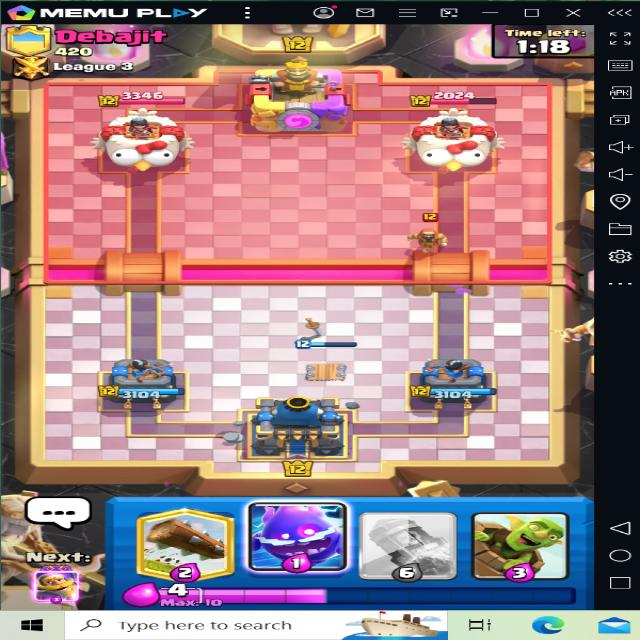Wizard: (404, 204, 459, 263)
